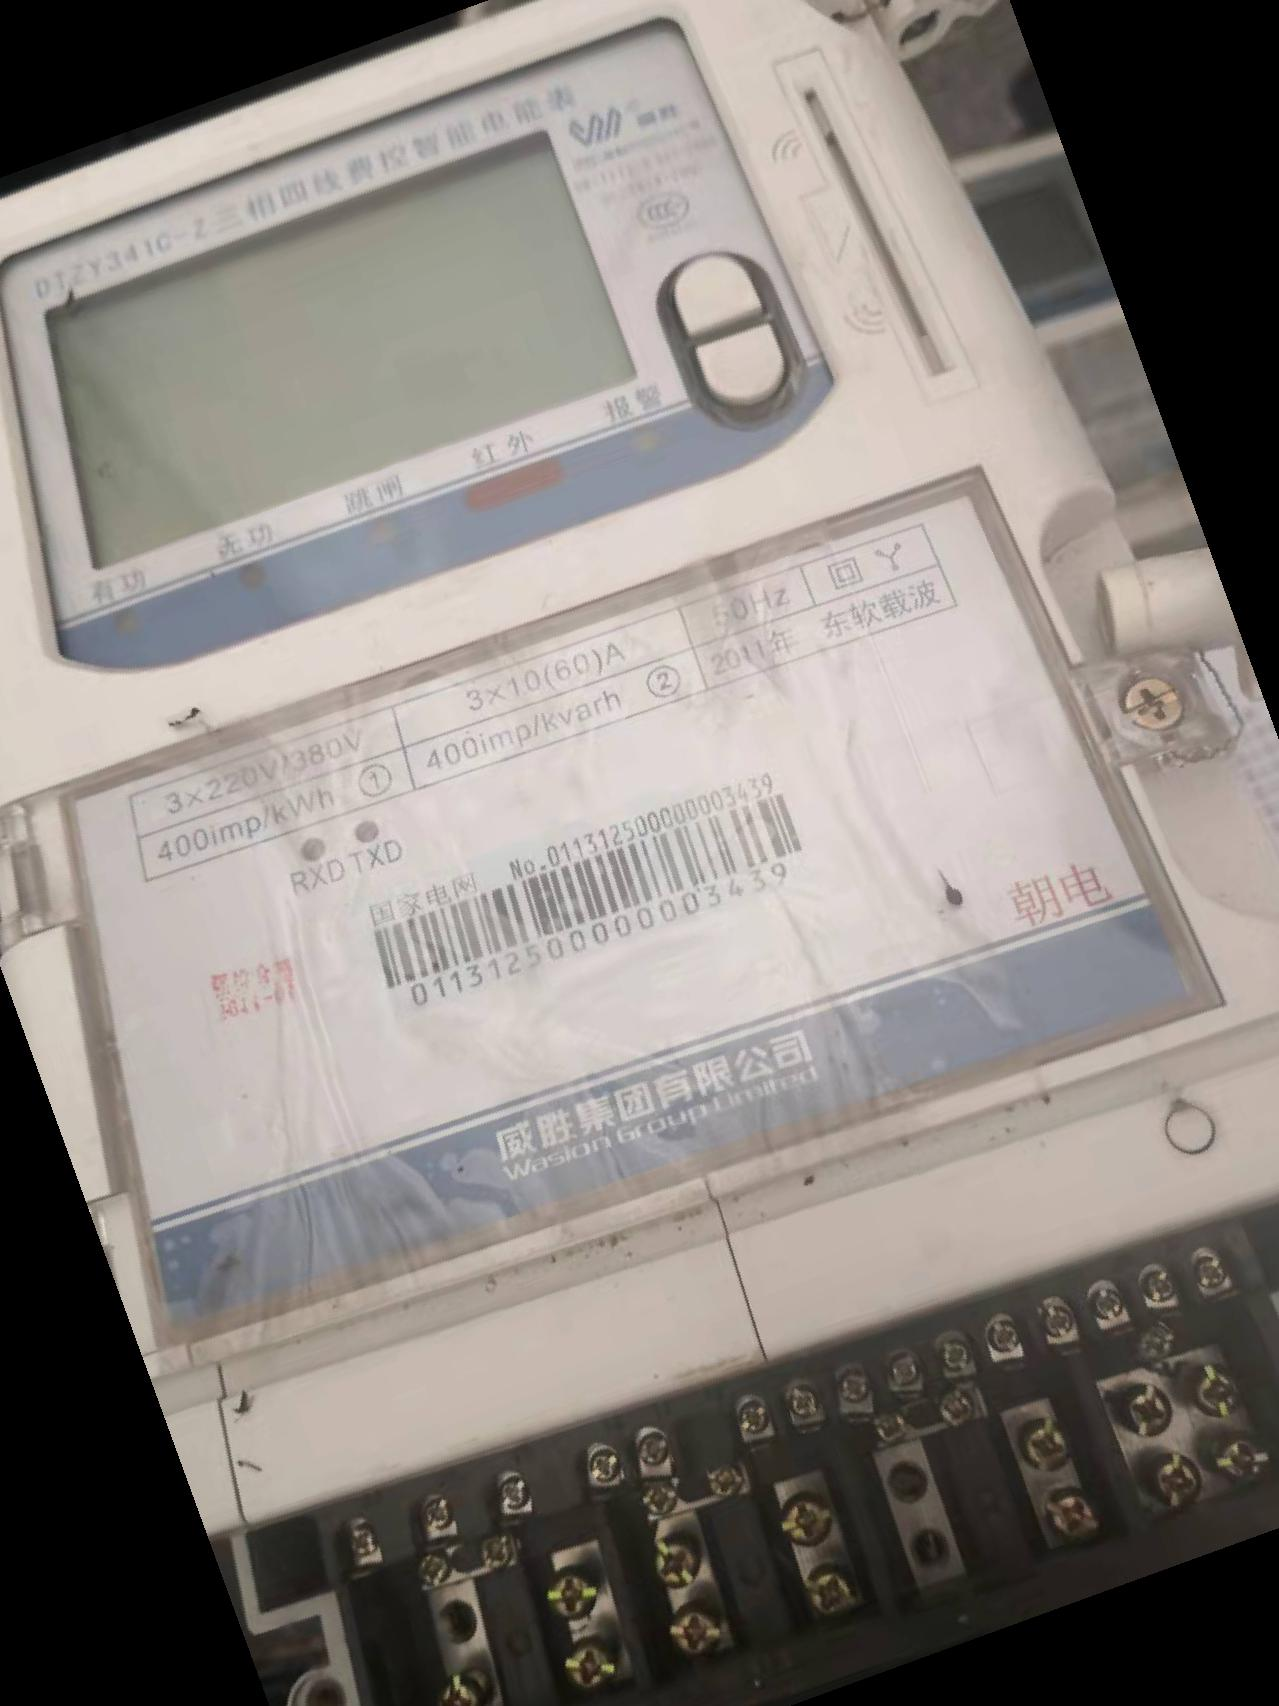digital: (1, 1, 1267, 1367)
